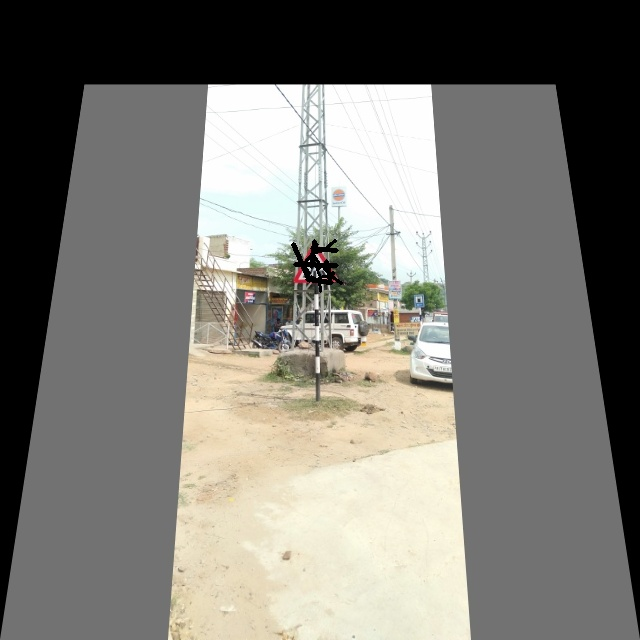Pedestrian_Crossing: (290, 241, 339, 287)
